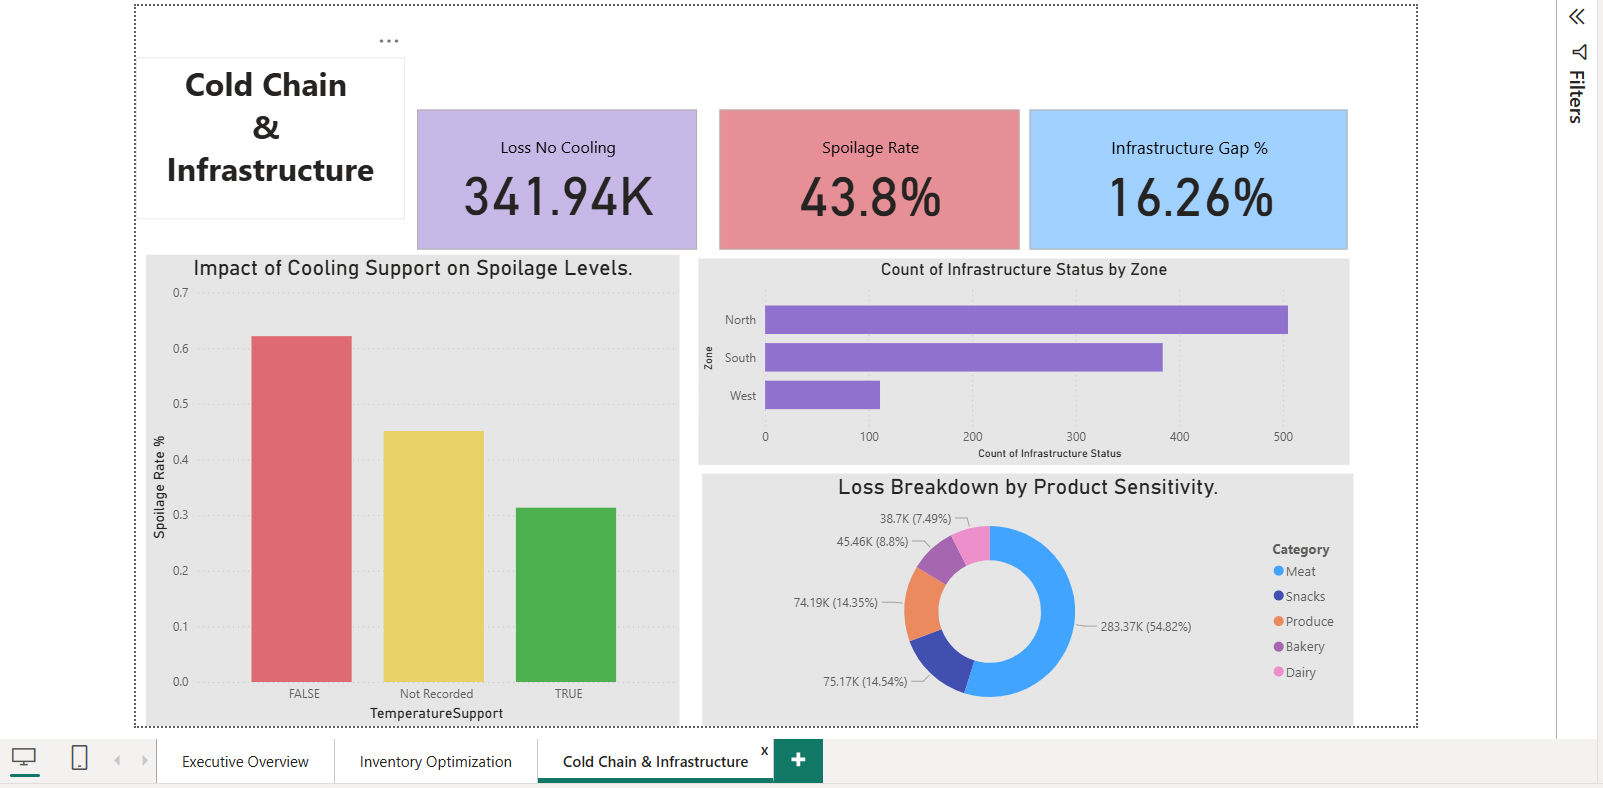

What the dashboard file says about the page in this screenshot:
{"tool":"powerbi","page":{"name":"Cold Chain & Infrastructure","canvas":[1280,720],"ordinal":2},"visuals":[{"type":"cardVisual","fields":{"Data":["Waste_Dataset_Processed (1).Loss No Cooling"]},"box":[276.2,98.8,290,150],"z":0},{"type":"clusteredColumnChart","title":"Impact of Cooling Support on Spoilage Levels.","fields":{"Y":["Waste_Dataset_Processed (1).Spoilage Rate %"],"Category":["Waste_Dataset_Processed (1).TemperatureSupport"]},"box":[10,248.8,533.8,471.2],"z":1000},{"type":"donutChart","title":"Loss Breakdown by Product Sensitivity.","fields":{"Category":["Waste_Dataset_Processed (1).Category"],"Y":["Waste_Dataset_Processed (1).Current Period Loss"],"Series":["Waste_Dataset_Processed (1).Perishable Type"]},"box":[566.2,467.5,651.2,252.5],"z":2000},{"type":"cardVisual","fields":{"Data":["Waste_Dataset_Processed (1).Spoilage Rate"]},"box":[578.8,98.8,310,150],"z":3000},{"type":"cardVisual","fields":{"Data":["Waste_Dataset_Processed (1).Infra Gap %"]},"box":[888.8,98.8,328.8,150],"z":4000},{"type":"textbox","box":[0,51.2,268.8,162.5],"z":5000},{"type":"clusteredBarChart","fields":{"Category":["Waste_Dataset_Processed (1).Zone"],"Y":["CountNonNull(Waste_Dataset_Processed (1).Infra Status)"]},"box":[562.5,252.5,651.2,206.2],"z":6000}]}

Visuals, with their boxes on the page's 1280x720 design canvas (x1, y1, x2, y2). These are canvas units, not pixel positions in the 1603x788 screenshot, which may show the page scaled, cropped or inside an application window:
cardVisual - Waste_Dataset_Processed (1).Loss No Cooling: <box>276,99,566,249</box>
"Impact of Cooling Support on Spoilage Levels." clusteredColumnChart: <box>10,249,544,720</box>
"Loss Breakdown by Product Sensitivity." donutChart: <box>566,468,1217,720</box>
cardVisual - Waste_Dataset_Processed (1).Spoilage Rate: <box>579,99,889,249</box>
cardVisual - Waste_Dataset_Processed (1).Infra Gap %: <box>889,99,1218,249</box>
textbox: <box>0,51,269,214</box>
clusteredBarChart - Waste_Dataset_Processed (1).Zone x CountNonNull(Waste_Dataset_Processed (1).Infra Status): <box>562,252,1214,459</box>
